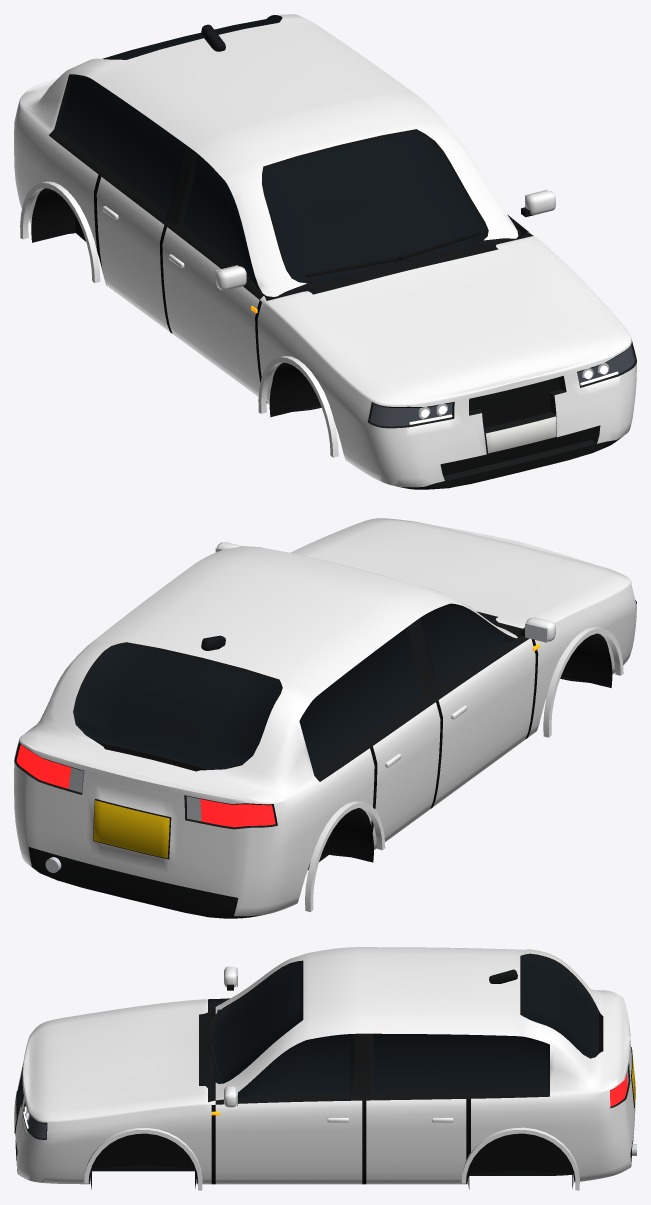
Rendered from hatch.glb.
3 views of the same model, one above another, from view 1: azimuth 30°, elevation 25°; view 2: azimuth 150°, elevation 25°; view 3: azimuth 270°, elevation 25° (orthographic). The views are drawn at different scales.
Visible parts, largest first — view 1: hatch; view 2: hatch; view 3: hatch.
Boxes of the visible parts, left/top/right/bottom form: hatch: left=14, top=14, right=636, bottom=489; hatch: left=14, top=518, right=636, bottom=918; hatch: left=14, top=947, right=636, bottom=1190.
Size of the model in its own units: 2.14 by 1.32 by 4.34.
